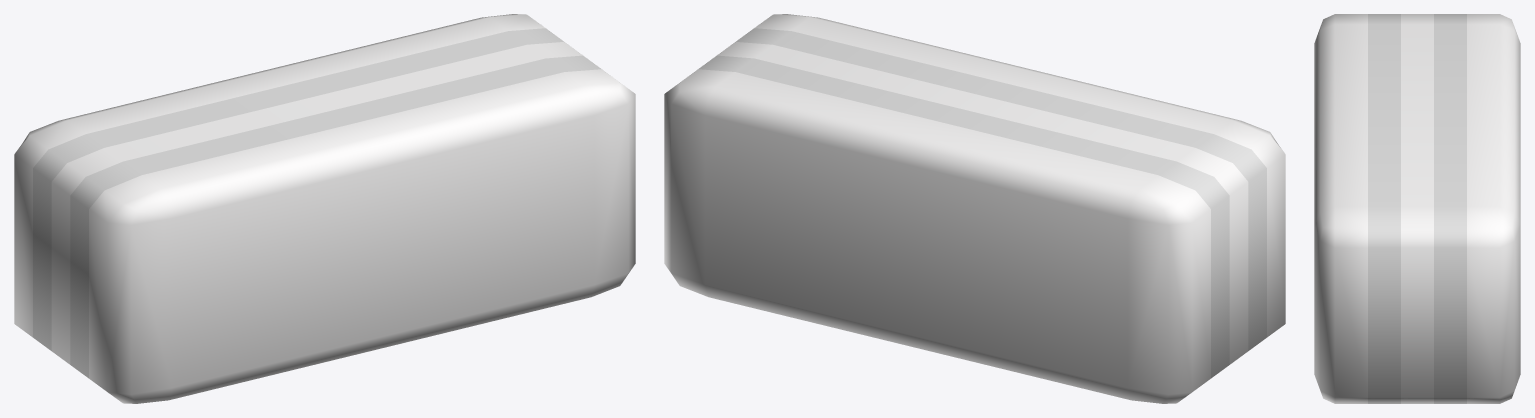
File: bush.fbx
3 views of the same model, side by side, from view 1: azimuth 30°, elevation 25°; view 2: azimuth 150°, elevation 25°; view 3: azimuth 270°, elevation 25° (orthographic). The views are drawn at different scales.
Visible parts, largest first — view 1: Bush; view 2: Bush; view 3: Bush.
Boxes of the visible parts, x1=… form: Bush: x1=14, y1=14, x2=635, y2=403; Bush: x1=664, y1=14, x2=1285, y2=403; Bush: x1=1314, y1=14, x2=1520, y2=403.
Size of the model in its own units: 131 by 50 by 50.
Materials: 1 (1 with a texture image).
